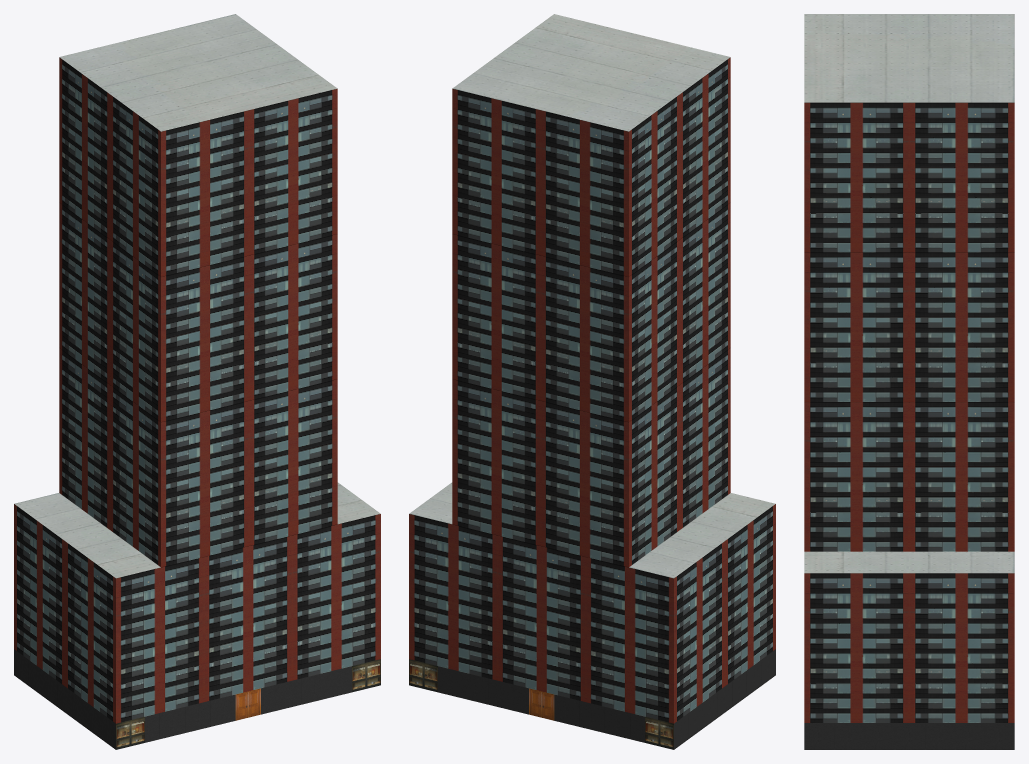
File: Building05.fbx
3 renders of one model, left to right at view 1: azimuth 30°, elevation 25°; view 2: azimuth 150°, elevation 25°; view 3: azimuth 270°, elevation 25°, orthographic. The views are drawn at different scales.
Visible parts, largest first — view 1: Building05; view 2: Building05; view 3: Building05.
Part boxes in pixels (left/top/right/bottom): Building05: left=14, top=14, right=380, bottom=749; Building05: left=409, top=14, right=775, bottom=749; Building05: left=804, top=14, right=1014, bottom=749.
Size of the model in its own units: 28.59 by 62.62 by 19.06.
